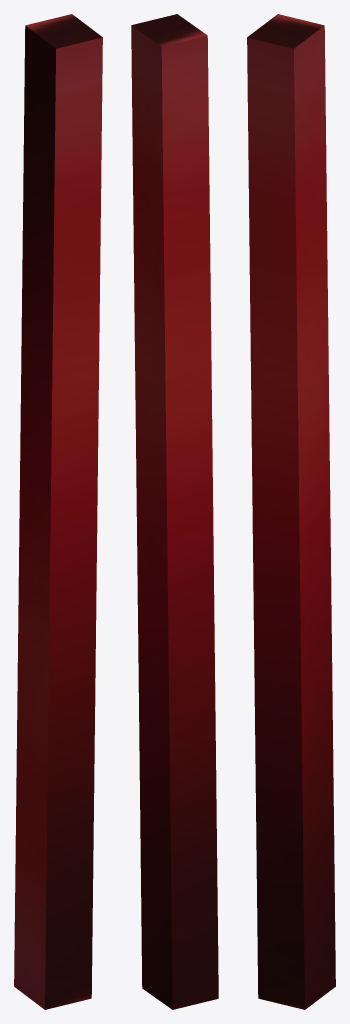
The model's file is FlechaBascula.obj.
3 views of the same model, side by side, from view 1: azimuth 30°, elevation 25°; view 2: azimuth 210°, elevation 25°; view 3: azimuth 330°, elevation 25° (orthographic).
Visible parts, largest first — view 1: FlechaBascula; view 2: FlechaBascula; view 3: FlechaBascula.
Boxes of the visible parts, left/top/right/bottom form: FlechaBascula: left=14, top=14, right=102, bottom=1009; FlechaBascula: left=131, top=14, right=218, bottom=1009; FlechaBascula: left=247, top=14, right=335, bottom=1009.
Bounding box in the file's own units: 0.0628 × 1.24 × 0.0978.
1 material, 1 textured.
